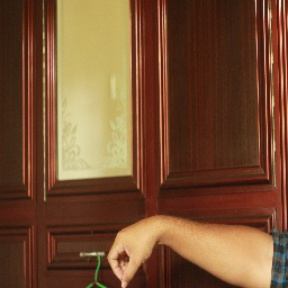O: (107, 216, 161, 282)
